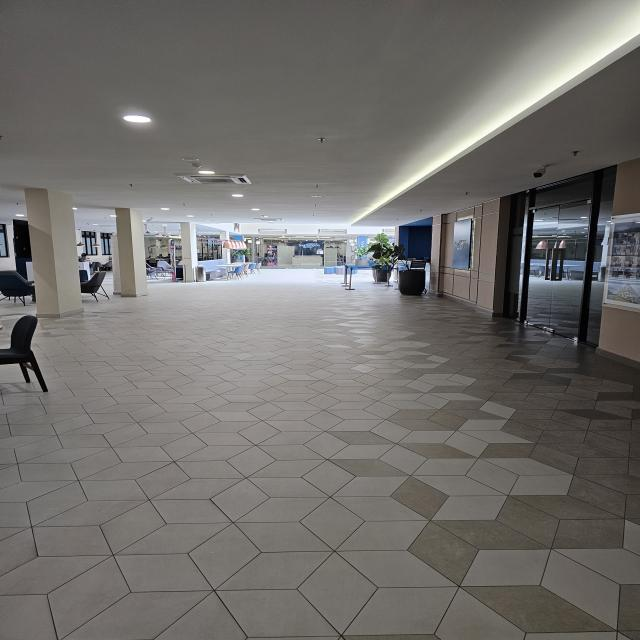door: (520, 194, 598, 340)
footpath: (58, 330, 554, 636)
obstacle: (0, 306, 49, 392), (391, 259, 428, 296)
